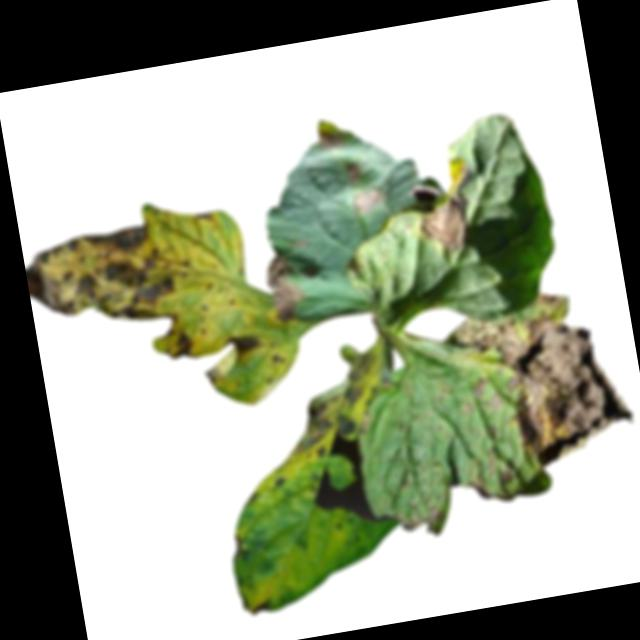Early_blight: (447, 282, 640, 479), (22, 220, 182, 342), (269, 347, 391, 463), (408, 158, 484, 262), (262, 250, 306, 328), (390, 498, 445, 544), (166, 329, 203, 363), (220, 330, 264, 358), (352, 187, 386, 212), (319, 127, 344, 154), (246, 597, 276, 618), (342, 160, 366, 184), (268, 350, 287, 370)
